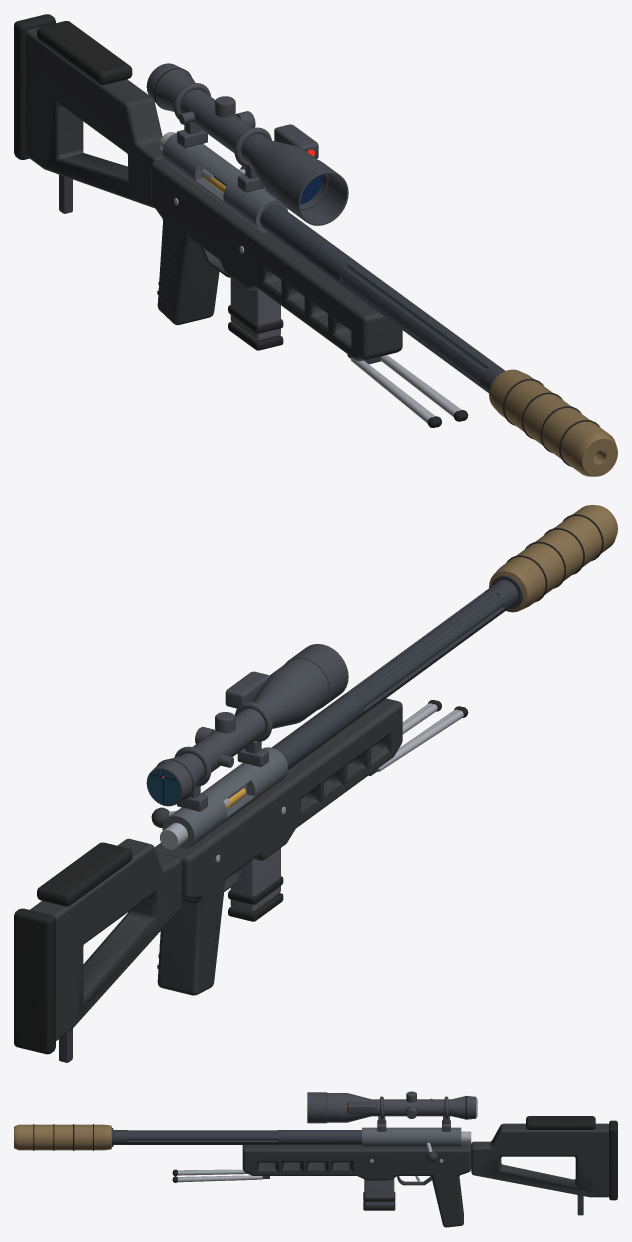
File: sniper.glb
The picture shows the model from 3 angles, top to bottom: view 1: azimuth 30°, elevation 25°; view 2: azimuth 150°, elevation 25°; view 3: azimuth 270°, elevation 25°; orthographic projection. The views are drawn at different scales.
Parts seen in each view (by area): view 1: body__0_5, body__0_8, body__8_8, body__3_8, mag__2_8, mag__0_1, body__1_8, body__0_0, body__5_8; view 2: body__0_5, body__0_8, body__8_8, mag__0_1, mag__2_8, body__3_8, body__5_8, body__1_8, bolt__0_8; view 3: body__0_5, body__0_8, body__8_8, mag__0_1, body__3_8, body__1_8, mag__2_8, body__0_0, body__5_8, bolt__0_8.
Part boxes in pixels (<box>): body__0_5: <box>25,24,402,360</box>; body__0_8: <box>14,14,505,393</box>; body__8_8: <box>489,369,617,476</box>; body__3_8: <box>280,158,348,225</box>; mag__2_8: <box>228,279,283,350</box>; mag__0_1: <box>228,277,283,333</box>; body__1_8: <box>351,355,468,427</box>; body__0_0: <box>362,355,463,427</box>; body__5_8: <box>274,124,318,158</box>; body__0_5: <box>30,698,402,1040</box>; body__0_8: <box>14,580,518,1062</box>; body__8_8: <box>489,505,617,612</box>; mag__0_1: <box>228,848,283,904</box>; mag__2_8: <box>228,852,283,921</box>; body__3_8: <box>284,644,348,709</box>; body__5_8: <box>225,671,269,708</box>; body__1_8: <box>377,700,468,772</box>; bolt__0_8: <box>151,798,229,849</box>; body__0_5: <box>242,1123,608,1227</box>; body__0_8: <box>113,1091,617,1219</box>; body__8_8: <box>14,1124,111,1150</box>; mag__0_1: <box>363,1178,395,1201</box>; body__3_8: <box>307,1092,327,1123</box>; body__1_8: <box>172,1169,262,1182</box>; mag__2_8: <box>363,1180,395,1210</box>; body__0_0: <box>172,1170,251,1178</box>; body__5_8: <box>346,1101,376,1113</box>; bolt__0_8: <box>426,1131,471,1162</box>.
Size of the model in its own units: 0.096 by 0.2883 by 1.22.
